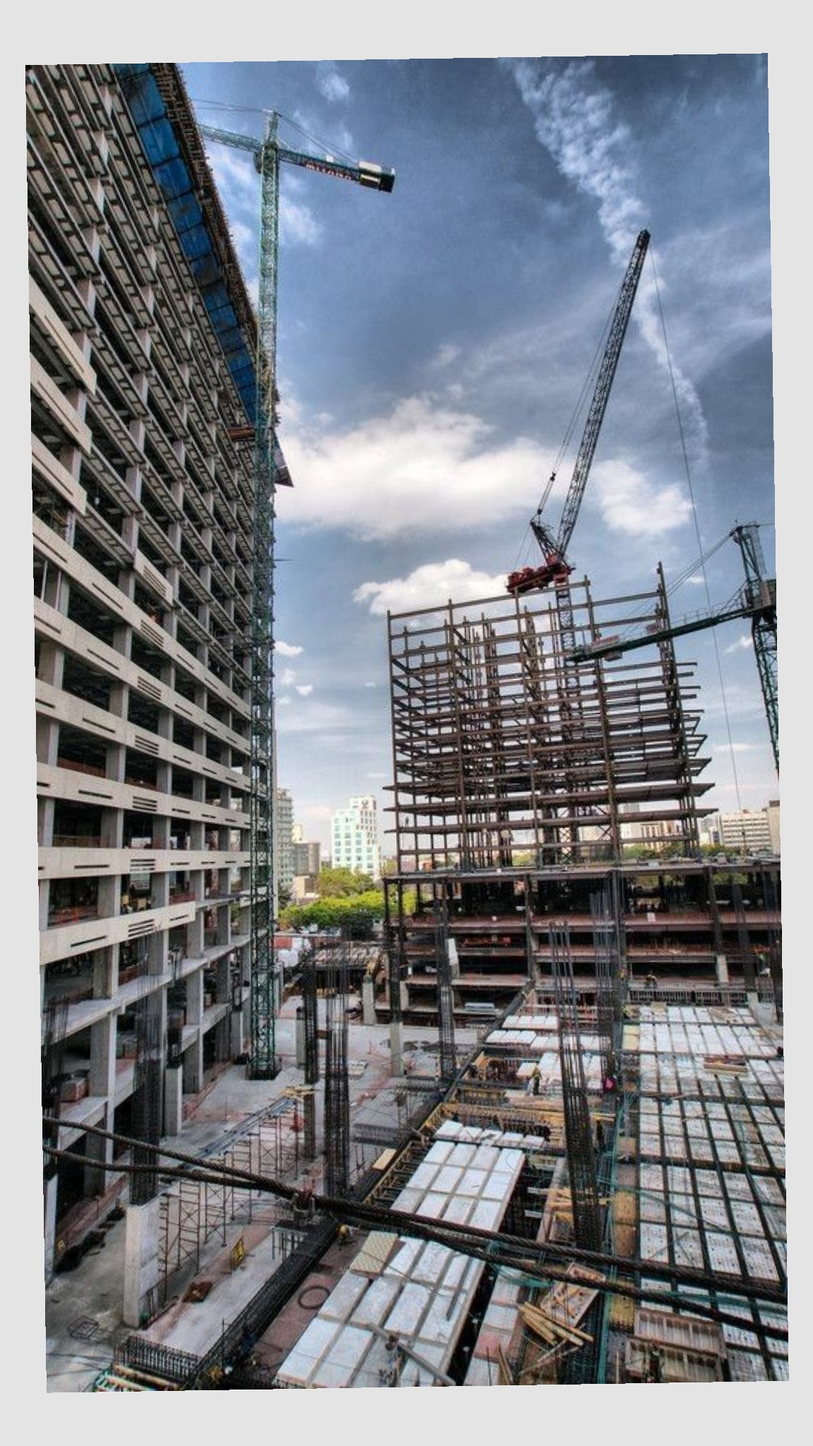crane: (481, 198, 750, 709), (165, 89, 408, 502)
